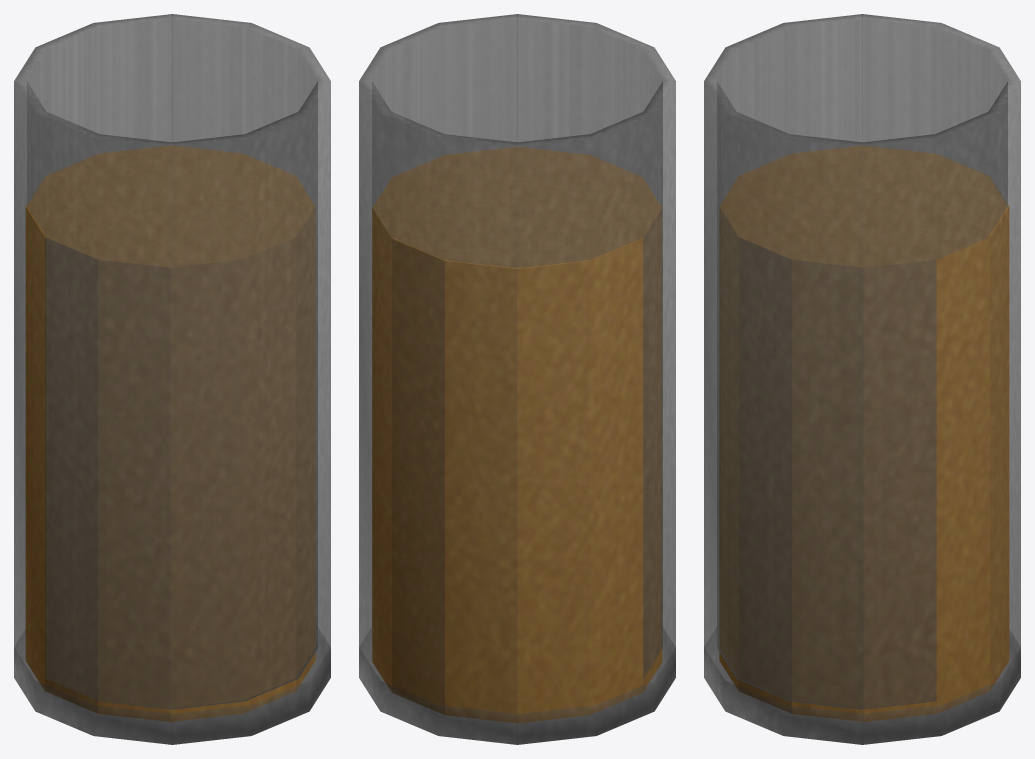
File: glass_of_beer_02.glb
The picture shows the model from 3 angles, left to right: view 1: azimuth 30°, elevation 25°; view 2: azimuth 150°, elevation 25°; view 3: azimuth 270°, elevation 25°; orthographic projection.
Visible parts, largest first — view 1: glass of beer.02; view 2: glass of beer.02; view 3: glass of beer.02.
Part boxes in pixels (left/top/right/bottom): glass of beer.02: left=14, top=14, right=330, bottom=744; glass of beer.02: left=359, top=14, right=675, bottom=744; glass of beer.02: left=704, top=14, right=1020, bottom=744.
Size of the model in its own units: 0.0989 by 0.2058 by 0.0989.
3 materials, 3 textured.
